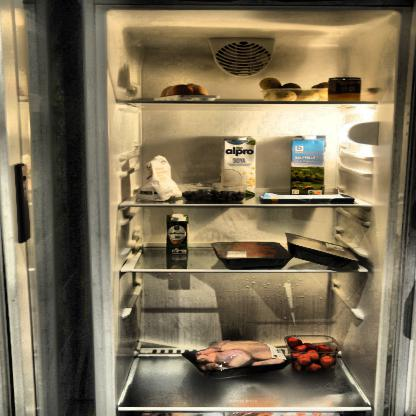beef: (219, 241, 285, 263)
blueberries: (182, 188, 250, 203)
chicken: (187, 340, 287, 374)
chocolate: (260, 193, 358, 208)
corn: (327, 76, 368, 106)
eggs: (162, 81, 210, 99)
heavy_cream: (167, 213, 190, 257)
milk: (291, 136, 326, 194), (222, 139, 257, 196)
potato: (258, 76, 332, 102)
strawberries: (286, 336, 336, 376)
